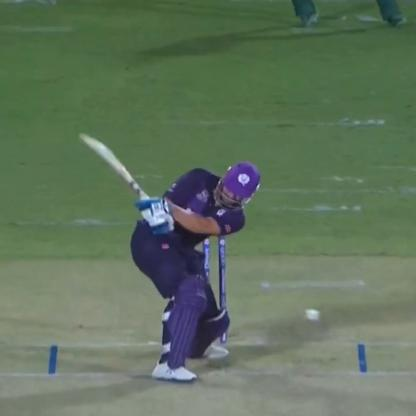ball: (305, 300, 322, 327)
bat: (75, 125, 164, 214)
pitch: (4, 312, 414, 416)
